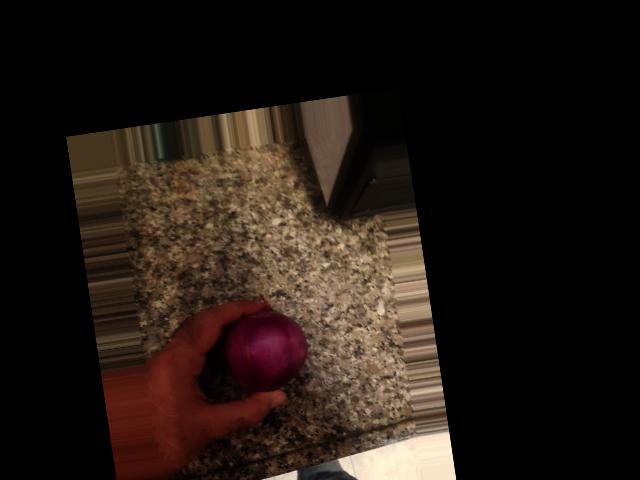onion: (221, 302, 309, 400)
